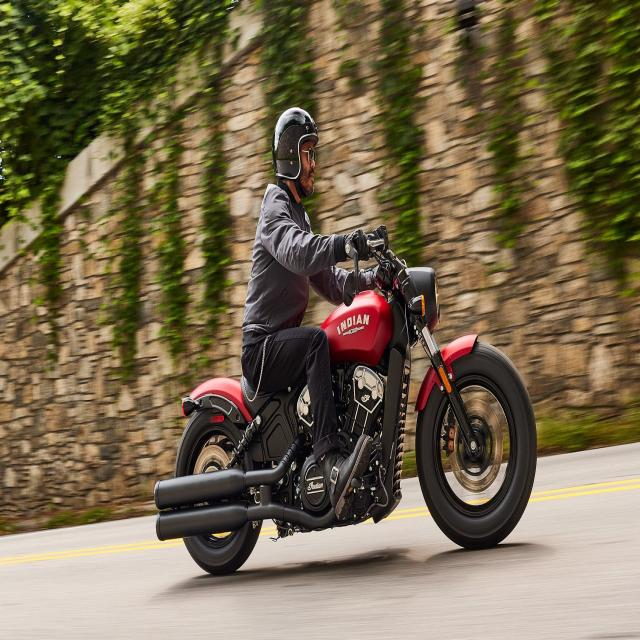motorcycle: (155, 107, 536, 573)
